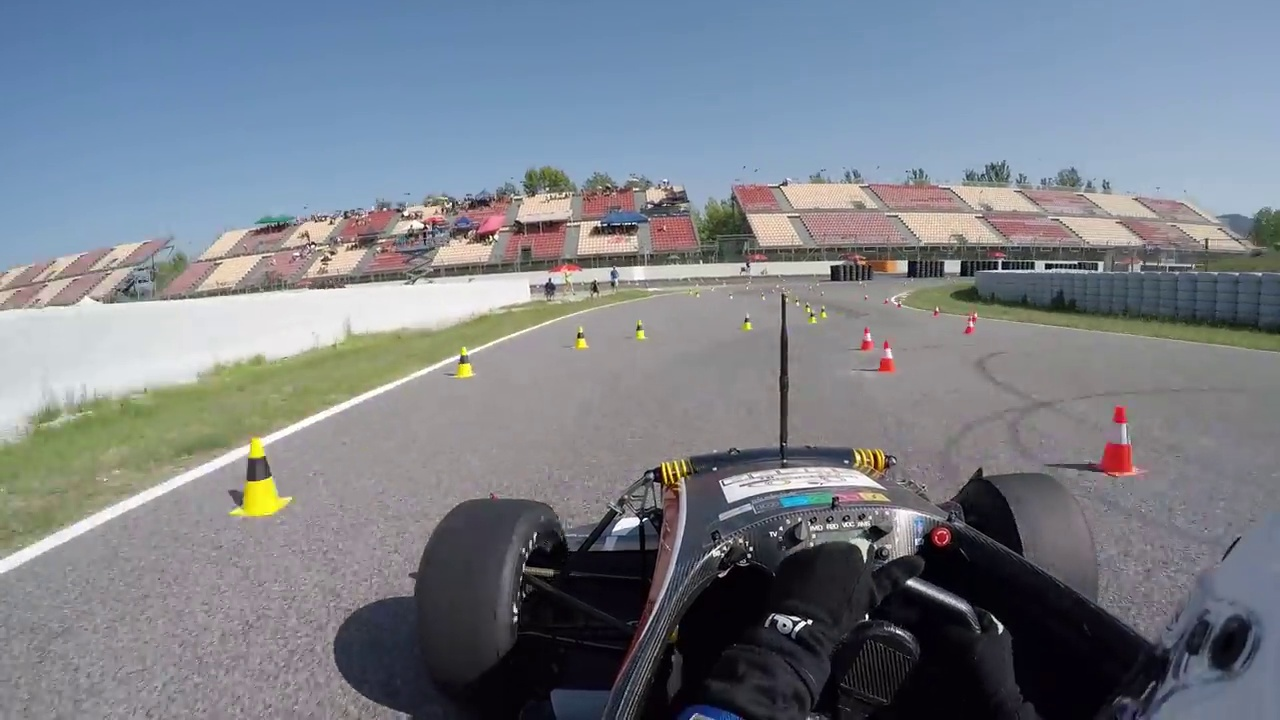Cone: (234, 434, 291, 517), (1091, 406, 1144, 479), (453, 345, 479, 379), (875, 340, 899, 372)
